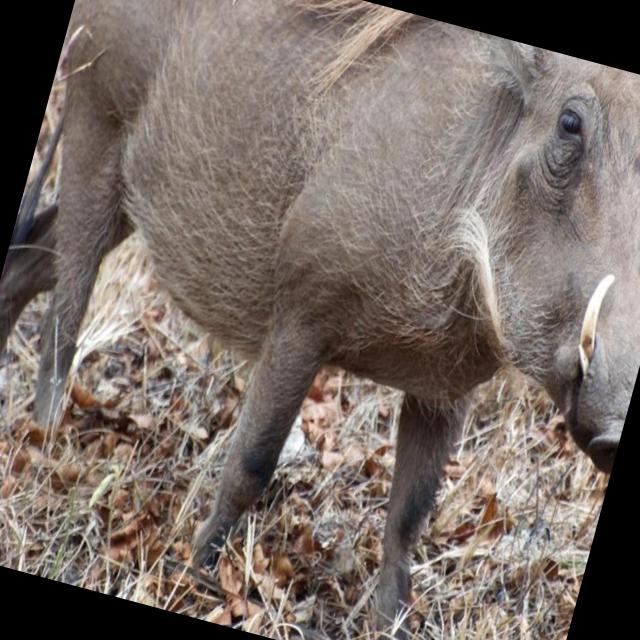pig: (0, 0, 640, 628)
